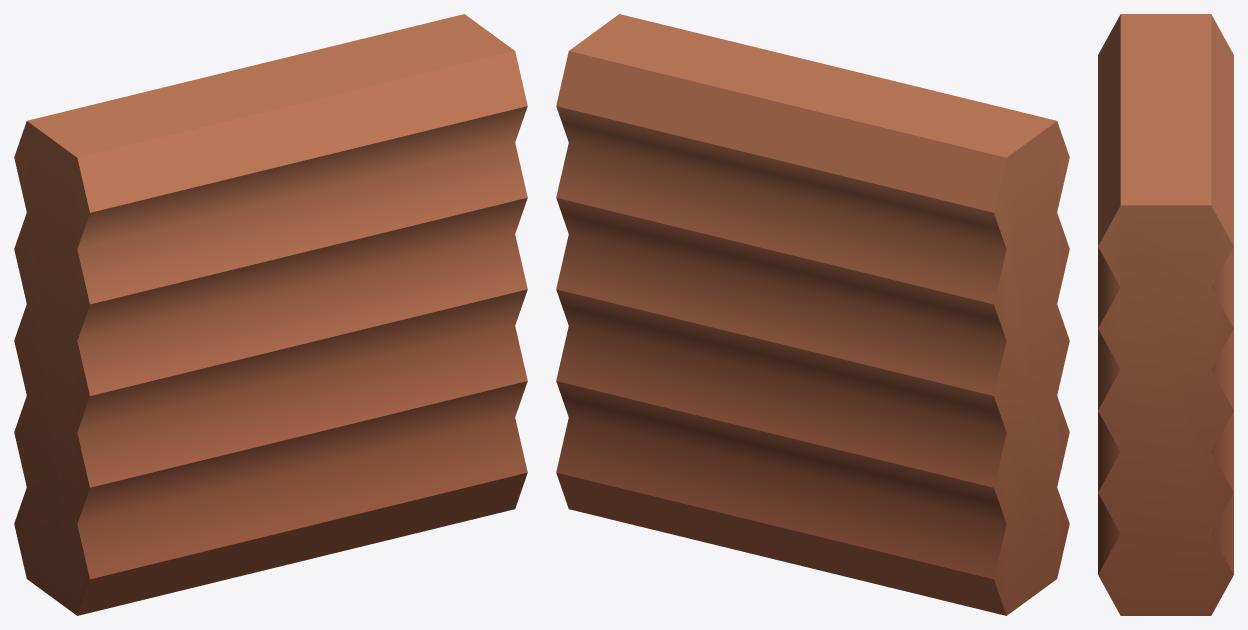
Rendered from cabin-wall.glb.
The picture shows the model from 3 angles, left to right: view 1: azimuth 30°, elevation 25°; view 2: azimuth 150°, elevation 25°; view 3: azimuth 270°, elevation 25°; orthographic projection. The views are drawn at different scales.
Parts seen in each view (by area): view 1: cabin-wall; view 2: cabin-wall; view 3: cabin-wall.
Boxes of the visible parts, x1=… form: cabin-wall: x1=14, y1=14, x2=527, y2=615; cabin-wall: x1=556, y1=14, x2=1069, y2=615; cabin-wall: x1=1098, y1=14, x2=1233, y2=615.
Bounding box in the file's own units: 1 × 1 × 0.3.
